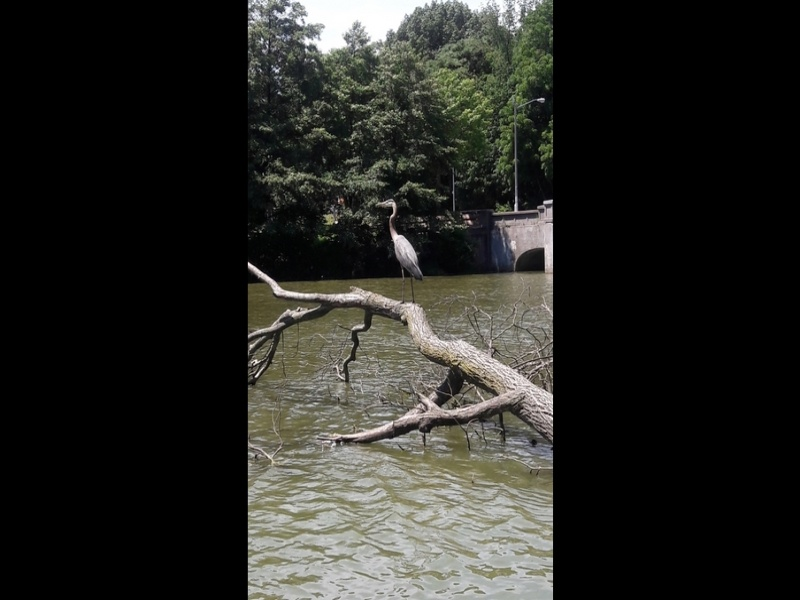heron: (373, 197, 426, 301)
